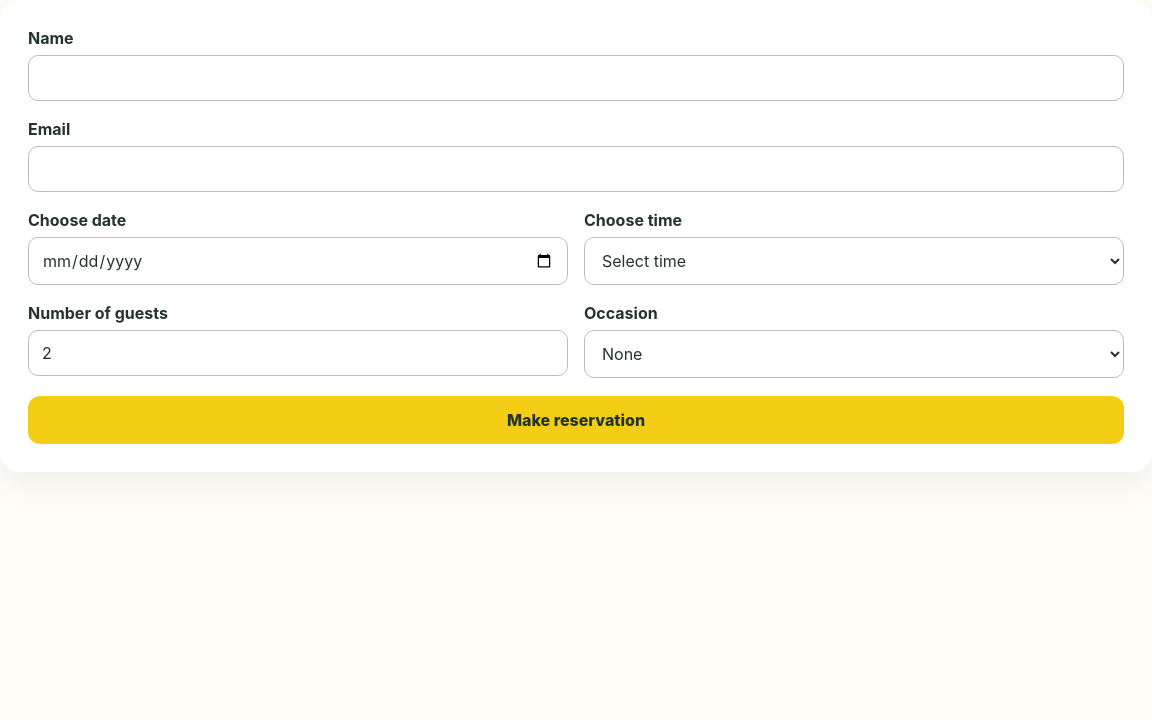
Test: BookingForm › shows validation errors when required fields are missing
Click the button "Make reservation".
click(576, 420)  # box 28,396 -> 1124,444
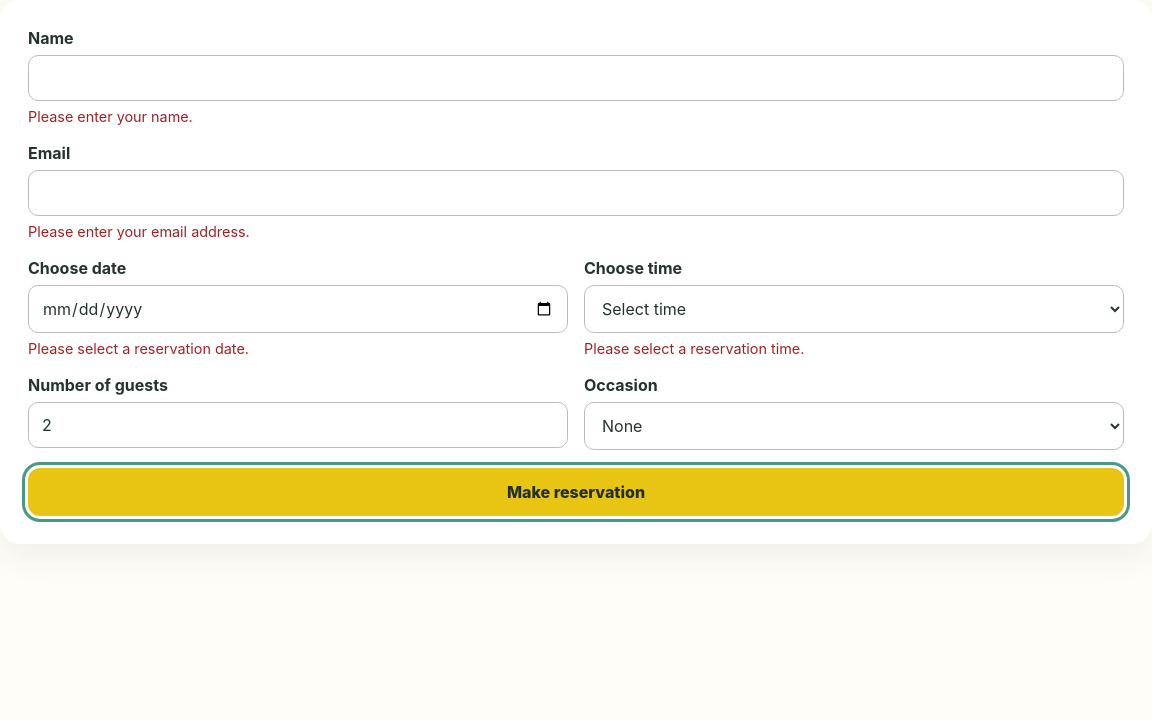
Expected: the text "Please enter your name." is shown, 28,108 -> 193,125
Expected: the text "Please enter your email address." is shown, 28,223 -> 250,240
Expected: the text "Please select a reservation date." is shown, 28,340 -> 249,357
